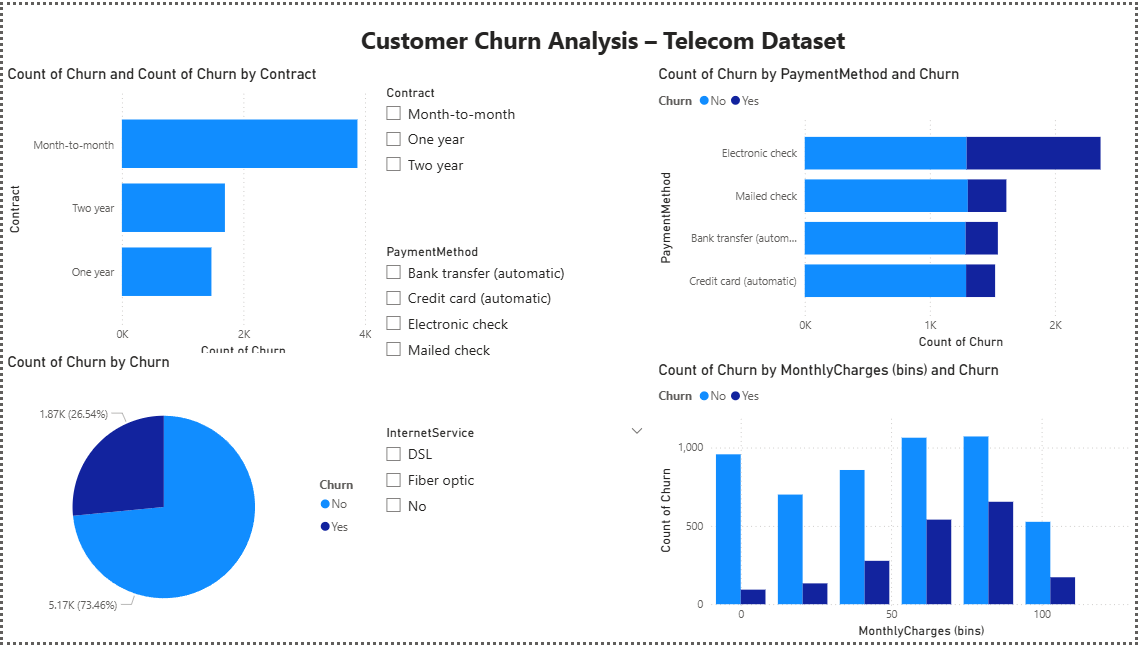

The dashboard page shown, as its layout file describes it:
{"tool":"powerbi","page":{"name":"Page 1","canvas":[1280,720],"ordinal":0},"visuals":[{"type":"barChart","fields":{"Category":["WA_Fn-UseC_-Telco-Customer-Churn.Contract"],"Y":["CountNonNull(WA_Fn-UseC_-Telco-Customer-Churn.Churn)","CountNonNull(WA_Fn-UseC_-Telco-Customer-Churn.Churn)"]},"box":[0,67.9,420.7,334.6],"z":0},{"type":"pieChart","fields":{"Category":["WA_Fn-UseC_-Telco-Customer-Churn.Churn"],"Y":["CountNonNull(WA_Fn-UseC_-Telco-Customer-Churn.Churn)"]},"box":[0,392.6,420.7,328],"z":1000},{"type":"barChart","fields":{"Category":["WA_Fn-UseC_-Telco-Customer-Churn.PaymentMethod"],"Series":["WA_Fn-UseC_-Telco-Customer-Churn.Churn"],"Y":["CountNonNull(WA_Fn-UseC_-Telco-Customer-Churn.Churn)"]},"box":[735.5,67.9,543.3,324.7],"z":2000},{"type":"clusteredColumnChart","fields":{"Y":["CountNonNull(WA_Fn-UseC_-Telco-Customer-Churn.Churn)"],"Series":["WA_Fn-UseC_-Telco-Customer-Churn.Churn"],"Category":["WA_Fn-UseC_-Telco-Customer-Churn.MonthlyCharges (bins)"]},"box":[735.5,402.5,543.3,318],"z":3000},{"type":"textbox","box":[381.7,15.1,593.4,52.9],"z":3005},{"type":"slicer","fields":{"Values":["WA_Fn-UseC_-Telco-Customer-Churn.InternetService"]},"box":[420.7,468.8,314.7,140.8],"z":3006},{"type":"slicer","fields":{"Values":["WA_Fn-UseC_-Telco-Customer-Churn.Contract"]},"box":[420.7,84.5,314.7,150.7],"z":3007},{"type":"slicer","fields":{"Values":["WA_Fn-UseC_-Telco-Customer-Churn.PaymentMethod"]},"box":[420.7,265,314.7,170.6],"z":3008}]}

Visuals, with their boxes in screenshot pixels (x1, y1, x2, y2), scaled from the page's 1280x720 canvas onto the 1140x646 screenshot:
barChart - WA_Fn-UseC_-Telco-Customer-Churn.Contract x CountNonNull(WA_Fn-UseC_-Telco-Customer-Churn.Churn): [0,61,375,361]
pieChart - WA_Fn-UseC_-Telco-Customer-Churn.Churn x CountNonNull(WA_Fn-UseC_-Telco-Customer-Churn.Churn): [0,352,375,645]
barChart - WA_Fn-UseC_-Telco-Customer-Churn.PaymentMethod x WA_Fn-UseC_-Telco-Customer-Churn.Churn: [655,61,1139,352]
clusteredColumnChart - CountNonNull(WA_Fn-UseC_-Telco-Customer-Churn.Churn) x WA_Fn-UseC_-Telco-Customer-Churn.Churn: [655,361,1139,645]
textbox: [340,14,868,61]
slicer - WA_Fn-UseC_-Telco-Customer-Churn.InternetService: [375,421,655,547]
slicer - WA_Fn-UseC_-Telco-Customer-Churn.Contract: [375,76,655,211]
slicer - WA_Fn-UseC_-Telco-Customer-Churn.PaymentMethod: [375,238,655,391]
